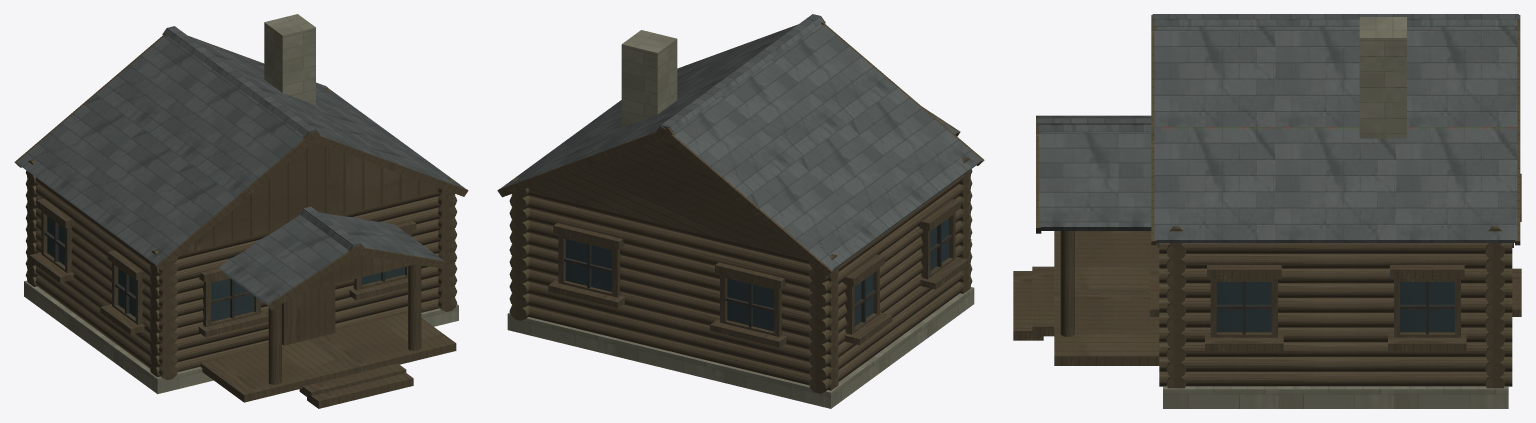
File: forest-cabin-lod.glb
3 views of the same model, side by side, from view 1: azimuth 30°, elevation 25°; view 2: azimuth 150°, elevation 25°; view 3: azimuth 270°, elevation 25° (orthographic). The views are drawn at different scales.
Visible parts, largest first — view 1: forest-cabin.001; view 2: forest-cabin.001; view 3: forest-cabin.001.
Part boxes in pixels (box(x1,y1,x2,y2)): forest-cabin.001: box(14, 14, 468, 408); forest-cabin.001: box(497, 14, 984, 408); forest-cabin.001: box(1013, 14, 1521, 408).
Bounding box in the file's own units: 5.69 × 4.28 × 6.
Materials: 1 (1 with a texture image).
